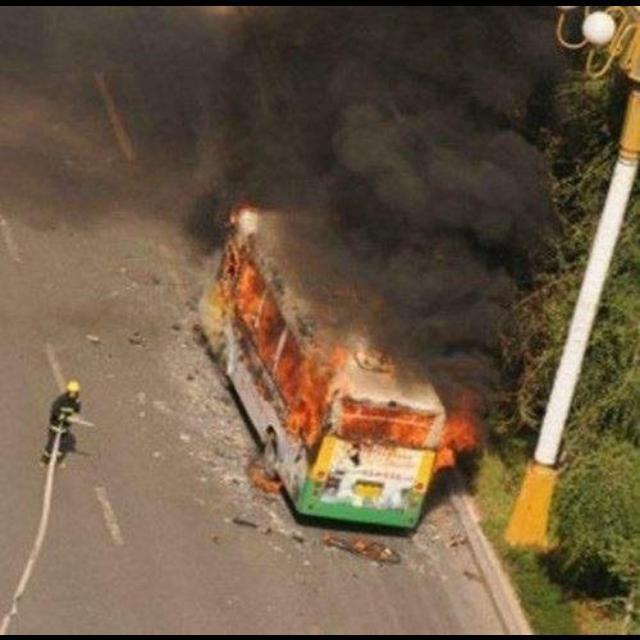Fire: (222, 224, 335, 494), (344, 392, 486, 462)
Smoke: (0, 0, 569, 221), (337, 223, 546, 390)
